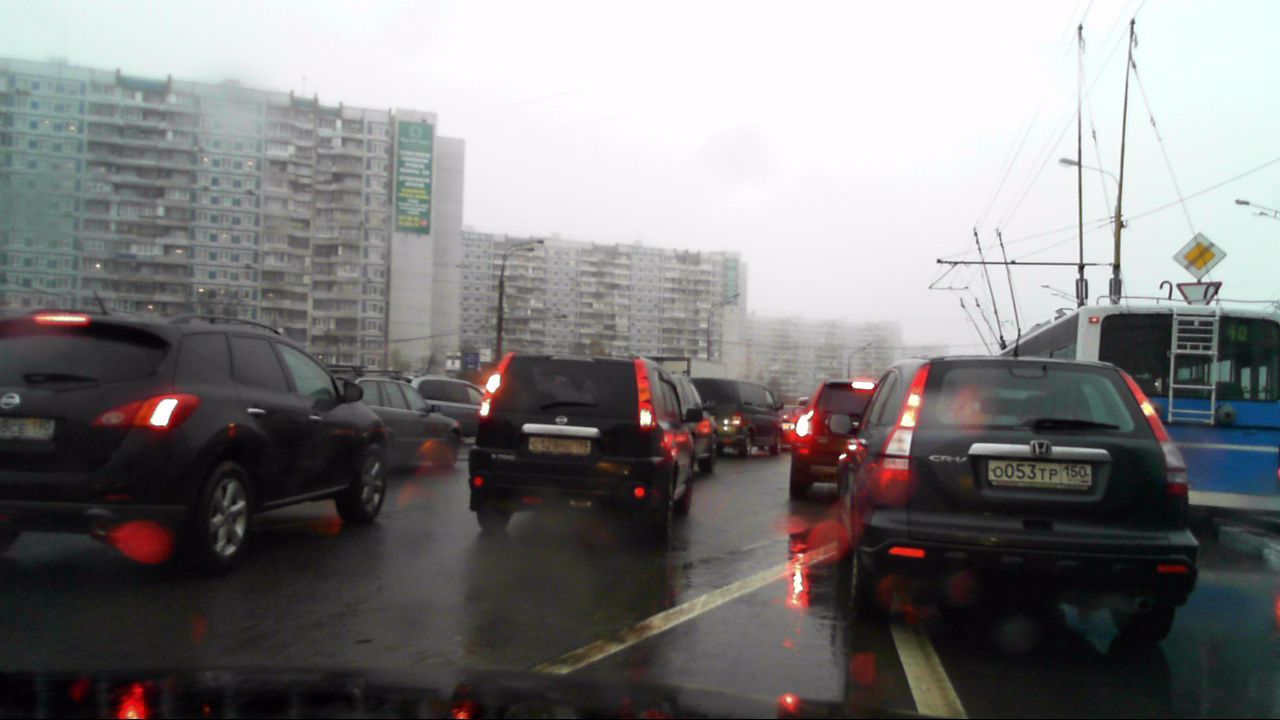main road: (1173, 233, 1227, 281)
